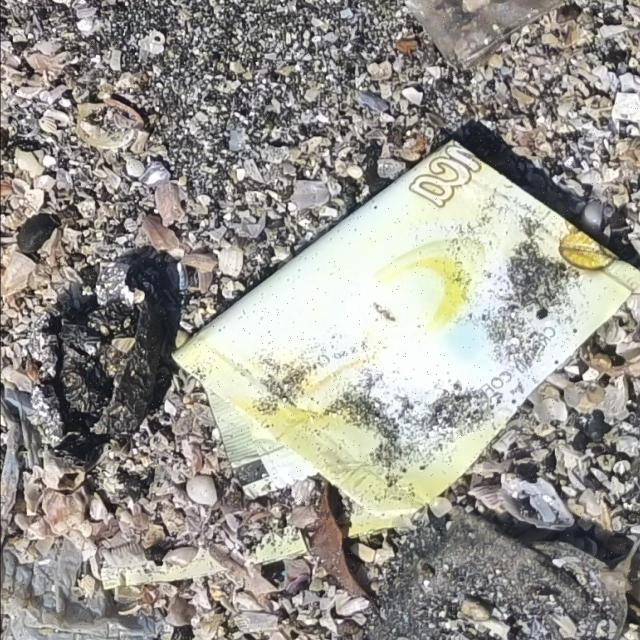plastic_waste: (169, 138, 640, 522)
